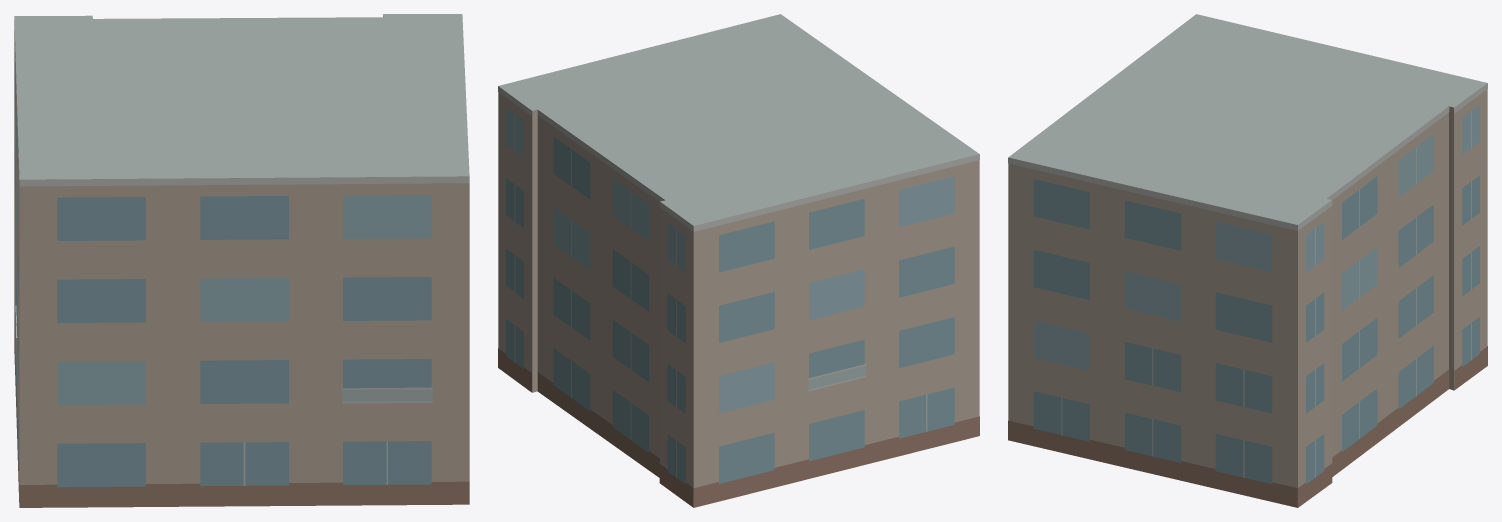
The model's file is survey-upis-32909506.glb.
3 renders of one model, left to right at view 1: azimuth 30°, elevation 25°; view 2: azimuth 150°, elevation 25°; view 3: azimuth 270°, elevation 25°, orthographic. The views are drawn at different scales.
Parts seen in each view (by area): view 1: survey-upis-32909506.tmp; view 2: survey-upis-32909506.tmp; view 3: survey-upis-32909506.tmp.
Boxes of the visible parts, <box> form: survey-upis-32909506.tmp: <box>14,14,469,507</box>; survey-upis-32909506.tmp: <box>498,14,979,507</box>; survey-upis-32909506.tmp: <box>1008,14,1487,507</box>.
Bounding box in the file's own units: 18.73 × 11.7 × 17.99.
